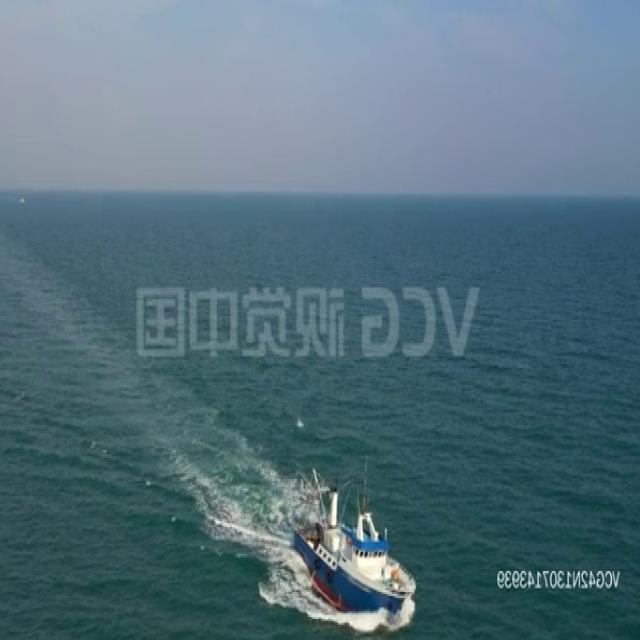houseboat: (291, 464, 412, 613)
